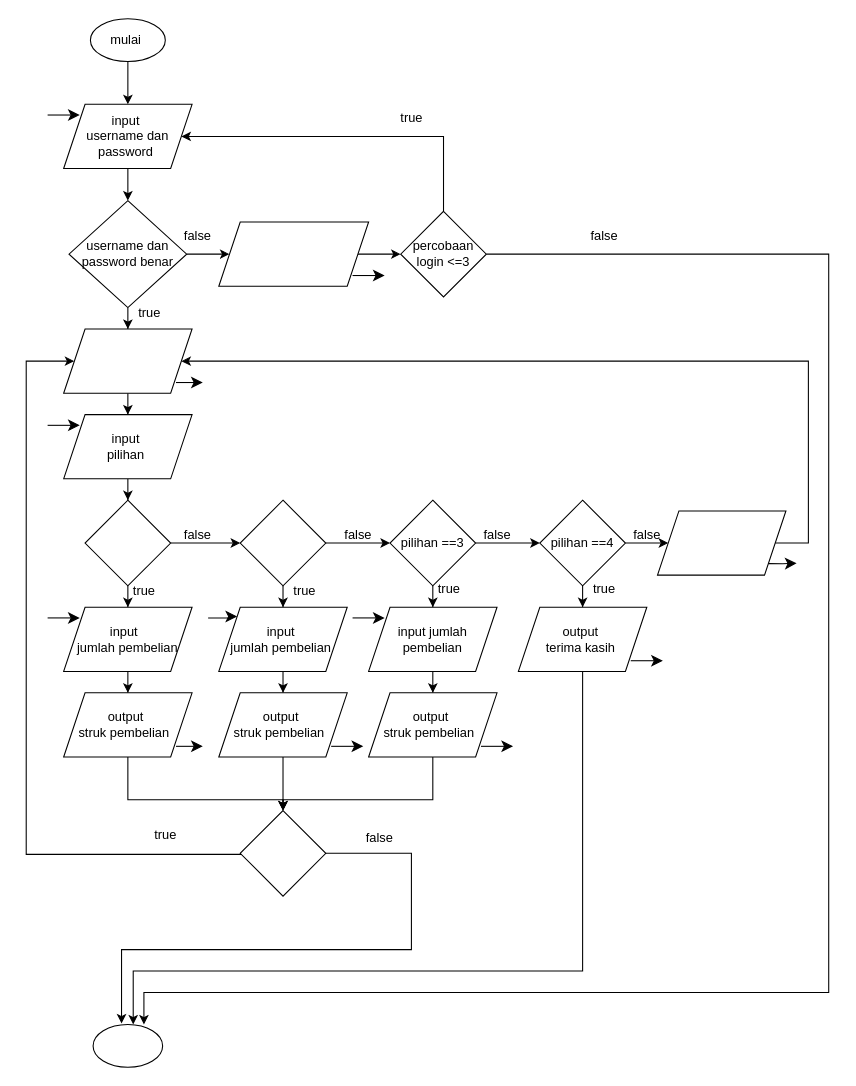
Some shapes in this 856 by 1086 pixel diagram are drawn without their labels. Each missing label, with the centre of its shape:
"apakah ingin beli lagi" belongs at [282,852].
"output menu pilihan" belongs at [127,360].
"output pilih 1-4" belongs at [721,542].
"output username dan passsword salah" belongs at [293,253].
"pilihan == 2" belongs at [282,542].
"pilihan ==1" belongs at [127,542].
"selesai" belongs at [127,1045].
